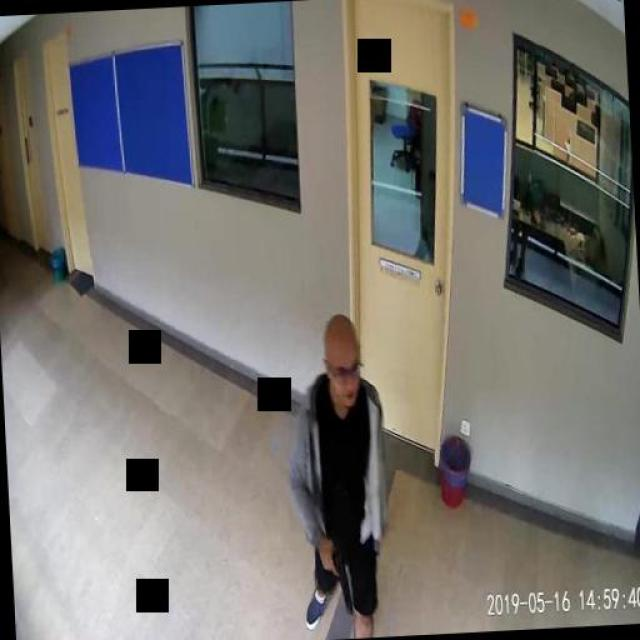gun: (321, 545, 351, 614)
